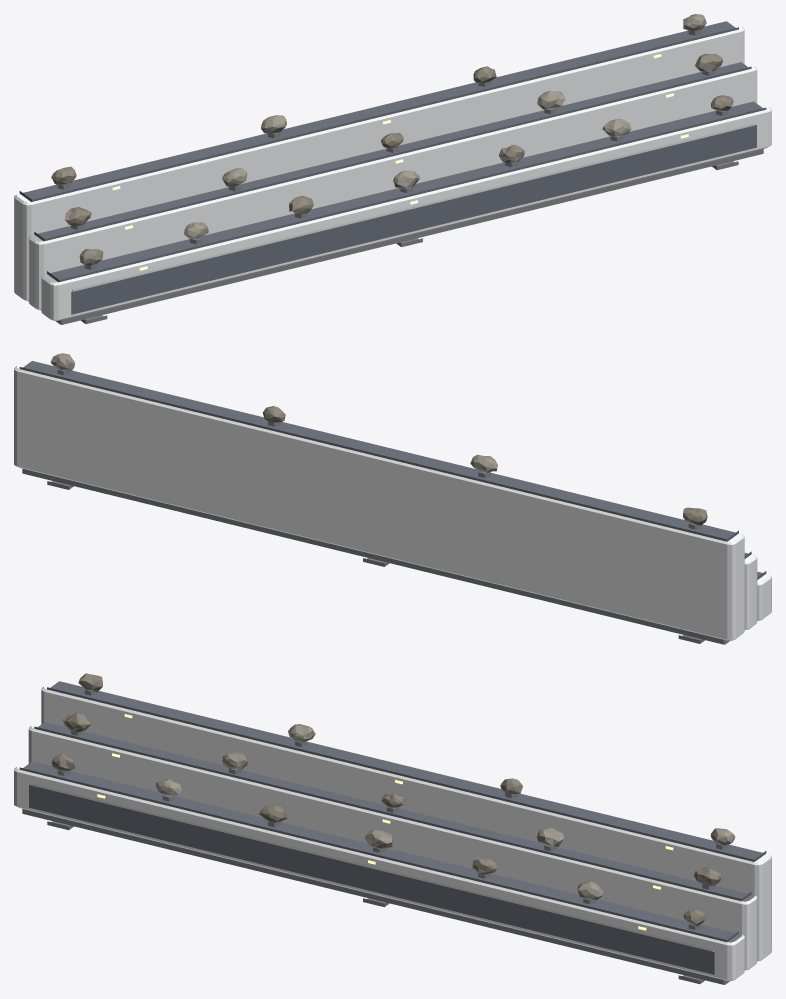
Rendered from ext_ts4_dead_foliage_04.glb.
3 renders of one model, top to bottom at view 1: azimuth 30°, elevation 25°; view 2: azimuth 150°, elevation 25°; view 3: azimuth 330°, elevation 25°, orthographic.
Parts seen in each view (by area): view 1: Tiers, Tier_Lids, Reservoir, Base_Frame, Foliage, Foliage_Light, Reservoir_Seal, Net_Cup_Clips; view 2: Tiers, Tier_Lids, Base_Frame, Foliage_Light, Foliage; view 3: Tiers, Tier_Lids, Reservoir, Base_Frame, Foliage, Foliage_Light, Reservoir_Seal, Net_Cup_Clips.
Boxes of the visible parts, bbox=[...] form: Tiers: bbox=[14, 26, 771, 320]; Tier_Lids: bbox=[19, 21, 766, 282]; Reservoir: bbox=[71, 125, 756, 314]; Base_Frame: bbox=[56, 149, 763, 324]; Foliage: bbox=[51, 54, 733, 266]; Foliage_Light: bbox=[184, 14, 706, 238]; Reservoir_Seal: bbox=[72, 123, 755, 291]; Net_Cup_Clips: bbox=[57, 30, 728, 269]; Tiers: bbox=[14, 366, 771, 640]; Tier_Lids: bbox=[19, 361, 766, 579]; Base_Frame: bbox=[22, 468, 730, 644]; Foliage_Light: bbox=[50, 353, 497, 473]; Foliage: bbox=[262, 406, 707, 525]; Tiers: bbox=[14, 686, 771, 980]; Tier_Lids: bbox=[19, 681, 766, 942]; Reservoir: bbox=[29, 785, 714, 974]; Base_Frame: bbox=[22, 809, 729, 984]; Foliage: bbox=[51, 673, 721, 926]; Foliage_Light: bbox=[156, 724, 735, 900]; Reservoir_Seal: bbox=[30, 783, 713, 951]; Net_Cup_Clips: bbox=[57, 690, 728, 929].
Size of the model in its own units: 4 by 0.6859 by 0.406.
